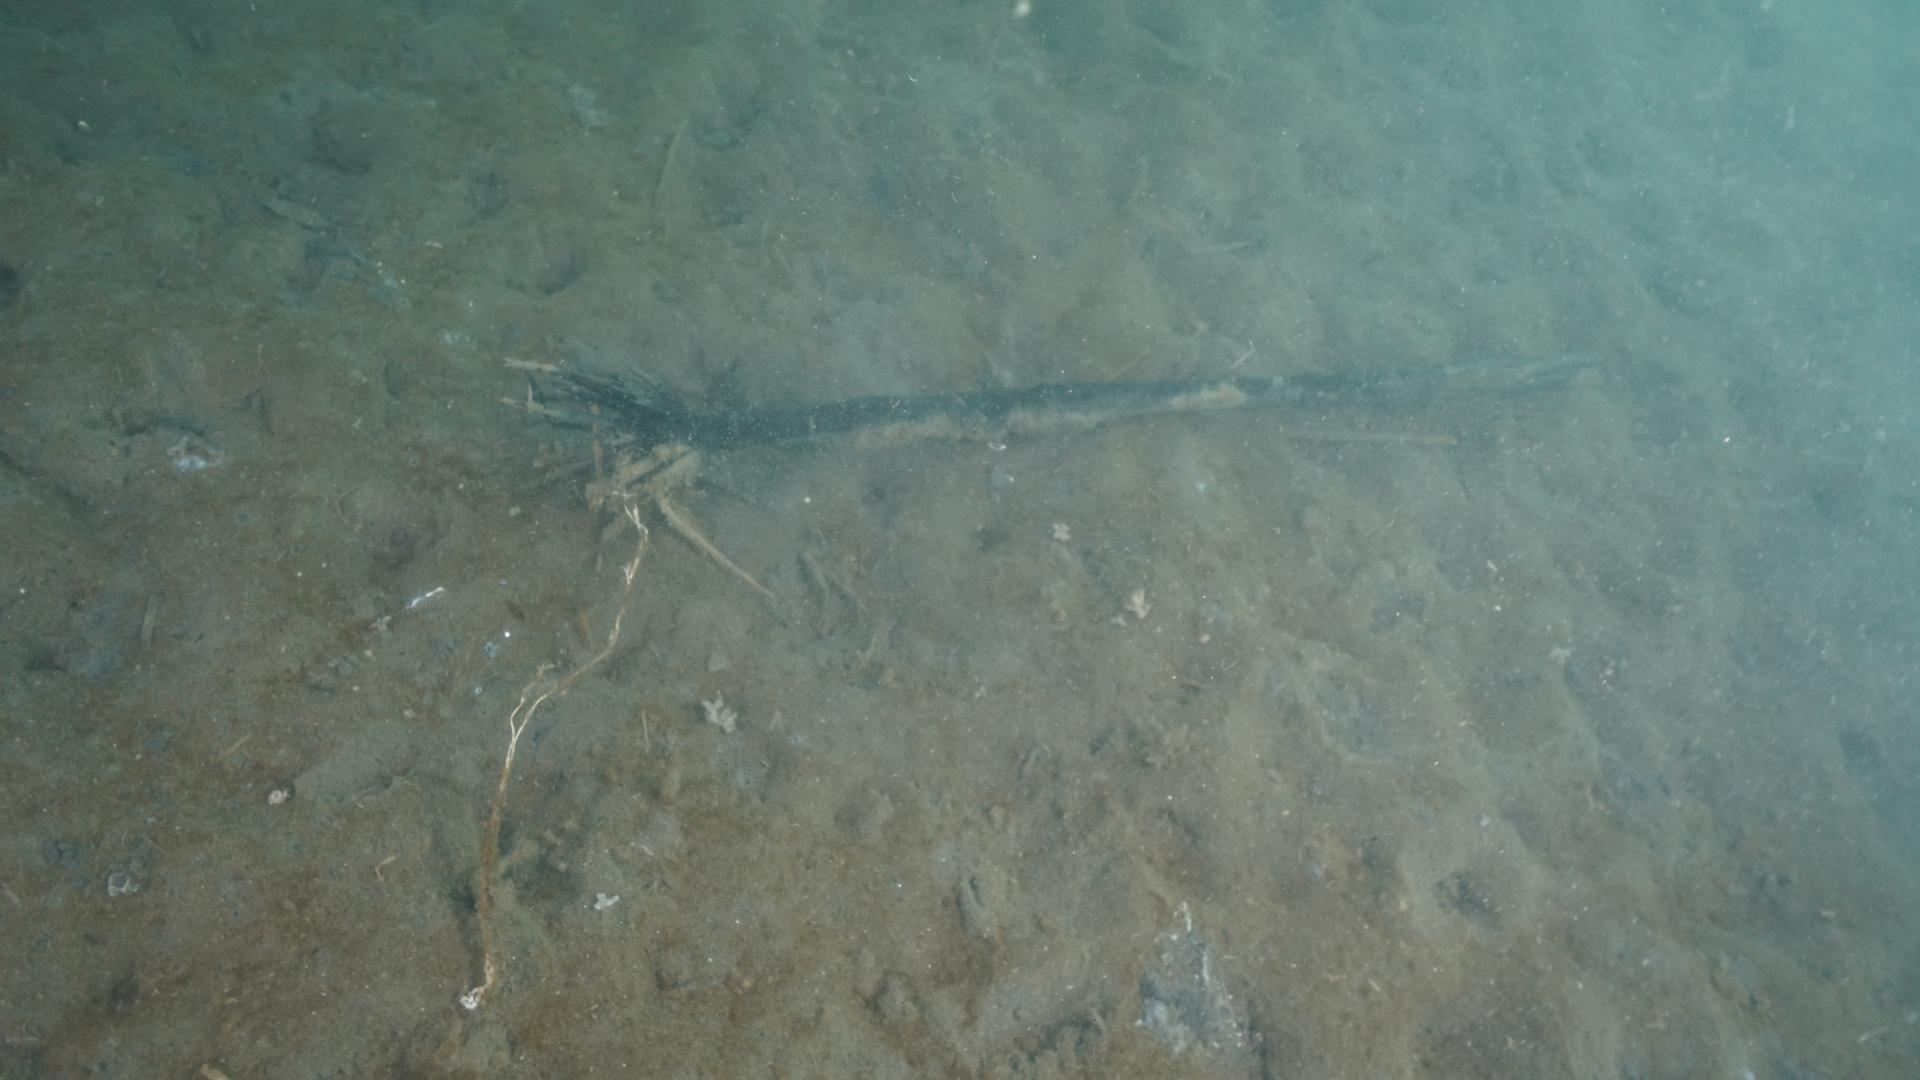wood: (533, 353, 1615, 493)
